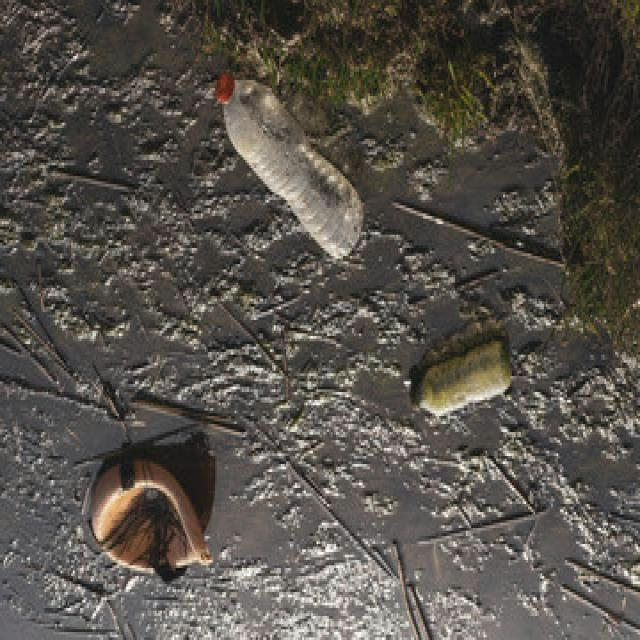Plastic: (214, 64, 369, 262), (407, 338, 522, 418)
Trash: (83, 459, 218, 585)
